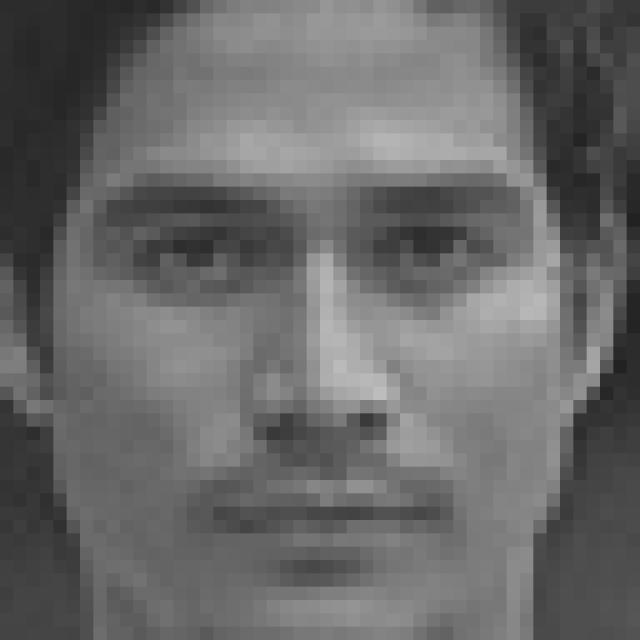neutral: (86, 149, 547, 589)
